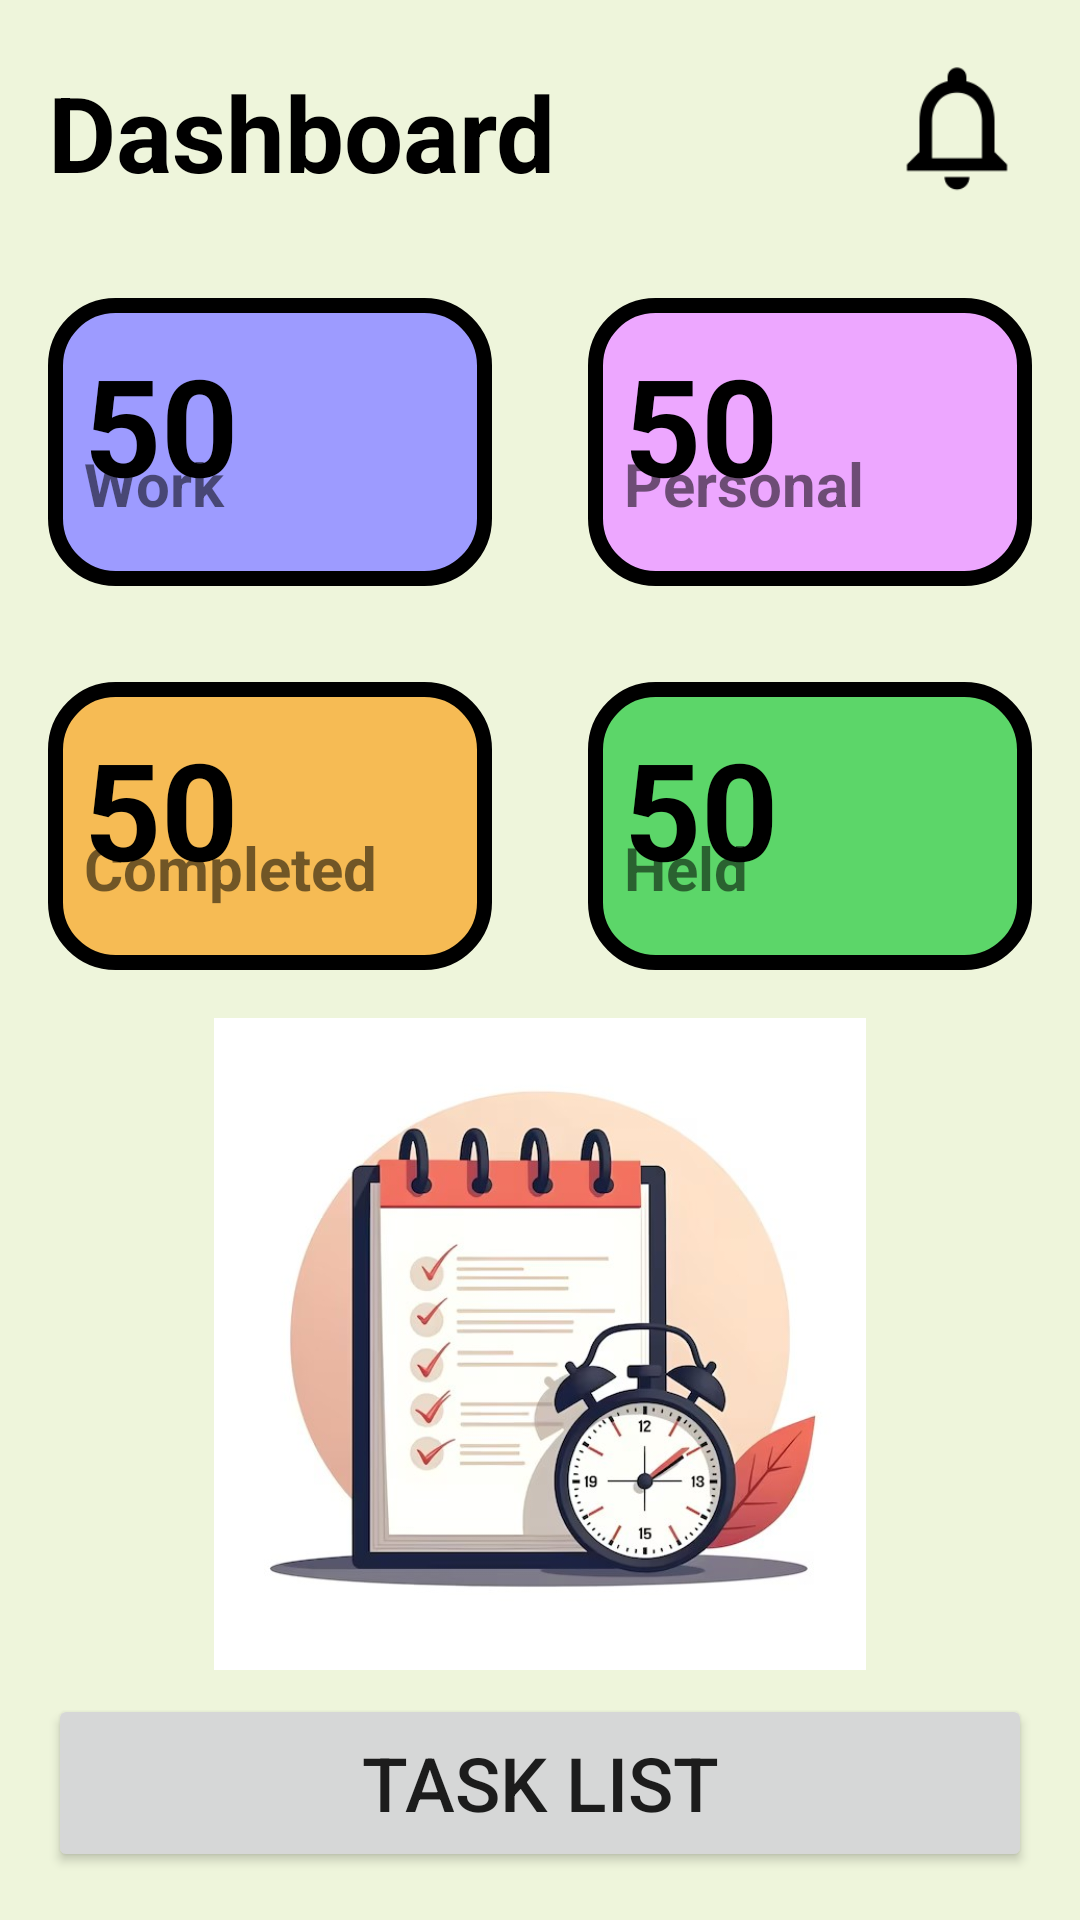

Icon bounding boxes for this 1080x1920 phone screenshot, format (x1, y1, x2, y2):
bell: (906, 67, 1008, 190)
